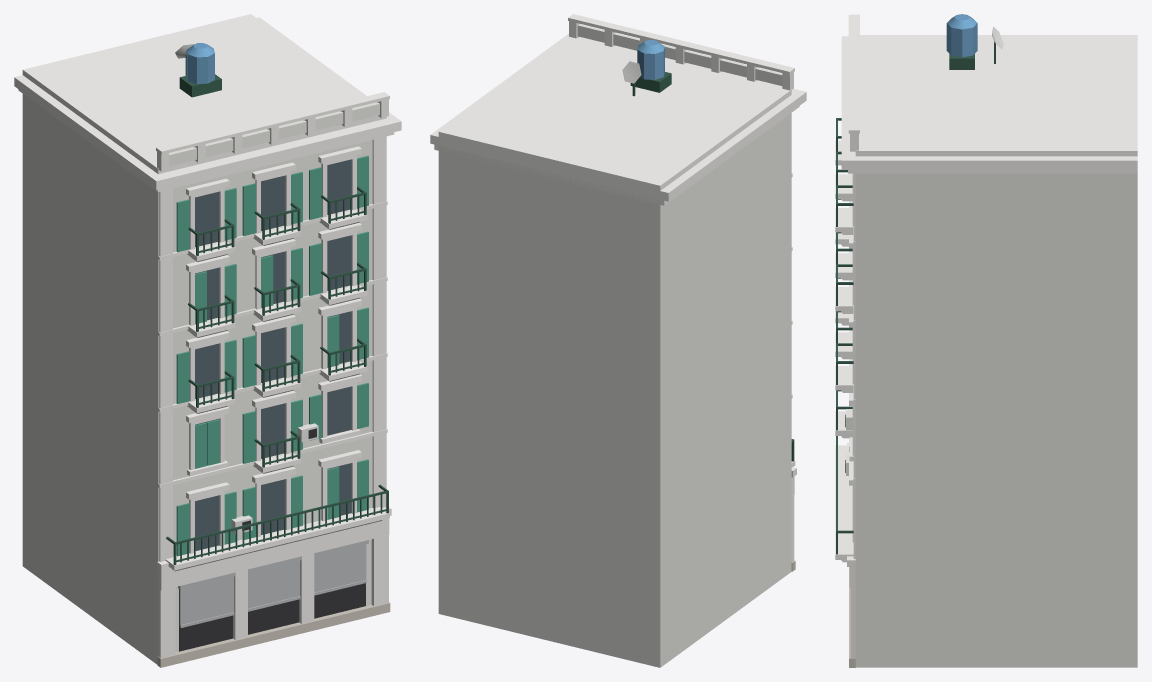
The model's file is bb_building_b.fbx.
3 renders of one model, left to right at view 1: azimuth 30°, elevation 25°; view 2: azimuth 150°, elevation 25°; view 3: azimuth 270°, elevation 25°, orthographic. The views are drawn at different scales.
Visible parts, largest first — view 1: bb_building_b; view 2: bb_building_b; view 3: bb_building_b.
Boxes of the visible parts, x1,y1,x2,y2 form: bb_building_b: (14, 14, 401, 667); bb_building_b: (430, 14, 806, 667); bb_building_b: (835, 14, 1137, 667).
Size of the model in its own units: 11.5 by 25.05 by 11.8.
